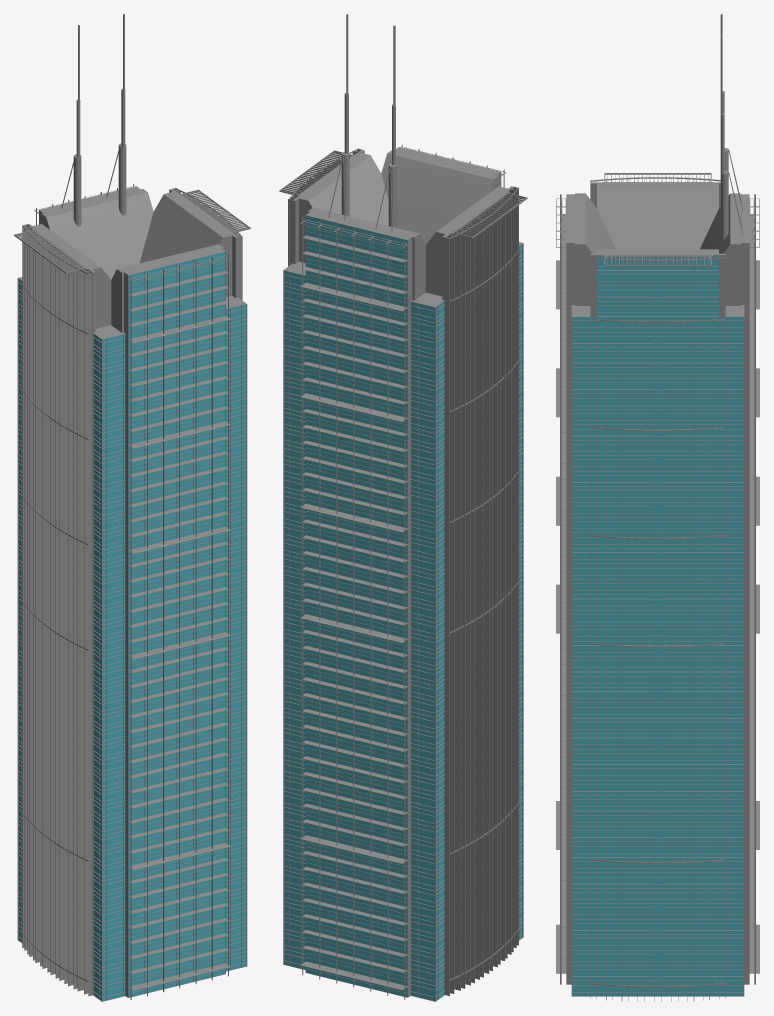
The model's file is Building-Type-10.FBX.
3 renders of one model, left to right at view 1: azimuth 30°, elevation 25°; view 2: azimuth 150°, elevation 25°; view 3: azimuth 270°, elevation 25°, orthographic. The views are drawn at different scales.
Visible parts, largest first — view 1: Building-Type-10-Exception-3-001, Building-Type-10-Exception-005, Building-Type-10-Regular-030, Building-Type-10-Regular-008, Building-Type-10-Regular-024, Building-Type-10-Exception-003, Building-Type-10-Regular-011, Building-Type-10-Regular-012, Building-Type-10-Regular-028, Building-Type-10-Regular-006, Building-Type-10-Regular-007, Building-Type-10-Regular-014 (+38 smaller); view 2: Building-Type-10-Exception-3-001, Building-Type-10-Regular-029, Building-Type-10-Exception-005, Building-Type-10-Regular-014, Building-Type-10-Regular-034, Building-Type-10-Regular-028, Building-Type-10-Regular-030, Building-Type-10-Regular-040, Building-Type-10-Regular-007, Building-Type-10-Regular-015, Building-Type-10-Regular-020, Building-Type-10-Regular-037 (+38 smaller); view 3: Building-Type-10-Exception-3-001, Building-Type-10-Exception-002, Building-Type-10-Exception-003, Building-Type-10-Base-001, Building-Type-10-Exception-004, Building-Type-10-Exception-001, Building-Type-10-Exception-005, Building-Type-10-Exception-2-003, Building-Type-10-Regular-009, Building-Type-10-Regular-018, Building-Type-10-Regular-038, Building-Type-10-Regular-040 (+37 smaller).
Boxes of the visible parts, x1,y1,x2,y2 form: Building-Type-10-Exception-3-001: (14,184,250,339); Building-Type-10-Exception-005: (17,278,247,354); Building-Type-10-Regular-030: (17,429,247,504); Building-Type-10-Regular-008: (17,760,247,836); Building-Type-10-Regular-024: (17,519,247,595); Building-Type-10-Exception-003: (17,489,247,565); Building-Type-10-Regular-011: (17,715,247,790); Building-Type-10-Regular-012: (17,700,247,775); Building-Type-10-Regular-028: (17,459,247,534); Building-Type-10-Regular-006: (17,790,247,866); Building-Type-10-Regular-007: (17,775,247,851); Building-Type-10-Regular-014: (17,669,247,745); Building-Type-10-Exception-3-001: (279,144,527,307); Building-Type-10-Regular-029: (283,417,523,496); Building-Type-10-Exception-005: (283,243,523,323); Building-Type-10-Regular-014: (283,653,523,733); Building-Type-10-Regular-034: (283,338,523,417); Building-Type-10-Regular-028: (283,432,523,512); Building-Type-10-Regular-030: (283,401,523,480); Building-Type-10-Regular-040: (283,874,523,954); Building-Type-10-Regular-007: (283,764,523,843); Building-Type-10-Regular-015: (283,638,523,717); Building-Type-10-Regular-020: (283,559,523,638); Building-Type-10-Regular-037: (283,290,523,370); Building-Type-10-Exception-3-001: (556,173,759,316); Building-Type-10-Exception-002: (556,584,759,661); Building-Type-10-Exception-003: (556,476,759,553); Building-Type-10-Base-001: (556,924,759,1001); Building-Type-10-Exception-004: (556,368,759,445); Building-Type-10-Exception-001: (556,801,759,877); Building-Type-10-Exception-005: (556,260,759,337); Building-Type-10-Exception-2-003: (560,199,755,290); Building-Type-10-Regular-009: (560,772,755,816); Building-Type-10-Regular-018: (560,633,755,677); Building-Type-10-Regular-038: (560,324,755,368); Building-Type-10-Regular-040: (560,911,755,955).
Size of the model in its own units: 51.28 by 242 by 47.8.
